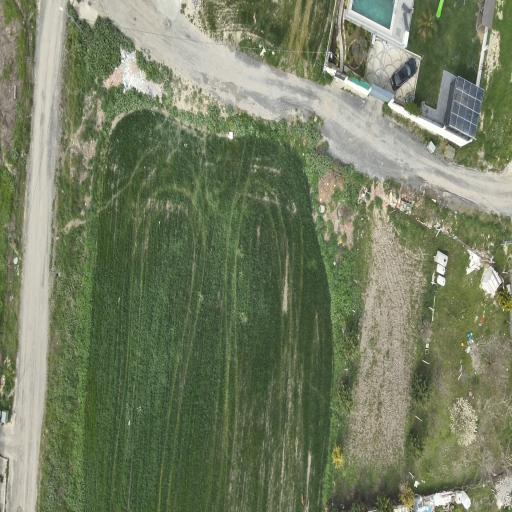car: (391, 58, 417, 90)
